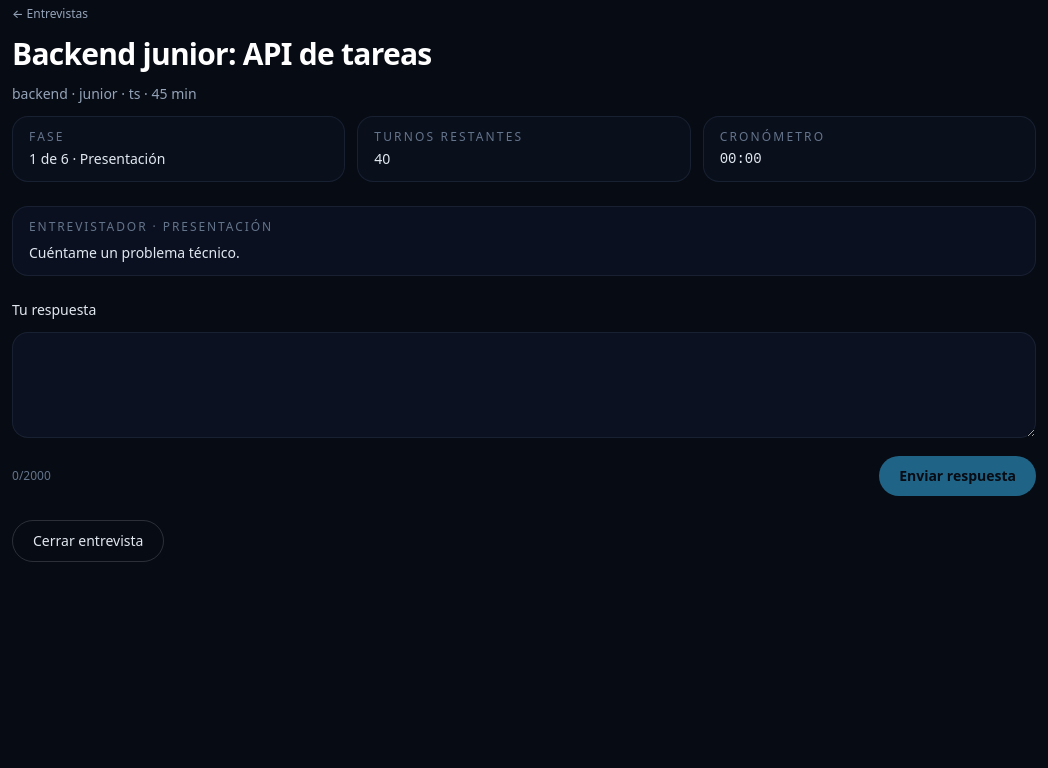
InterviewRoom › envía una respuesta y actualiza fase, turno y conversación
Type "Validaría el caso vacío." into the text box labelled "Tu respuesta" at x=524, y=385, box [12,332,1036,438]
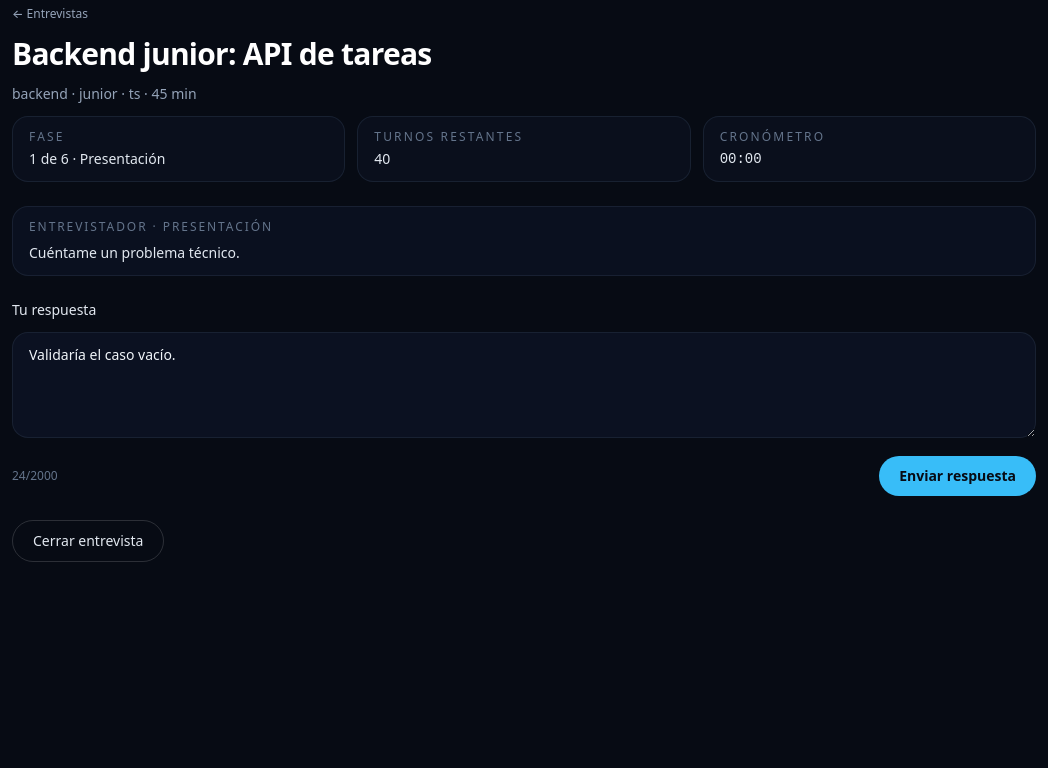
Click the button "Enviar respuesta" at x=958, y=476, box [879,456,1036,496]
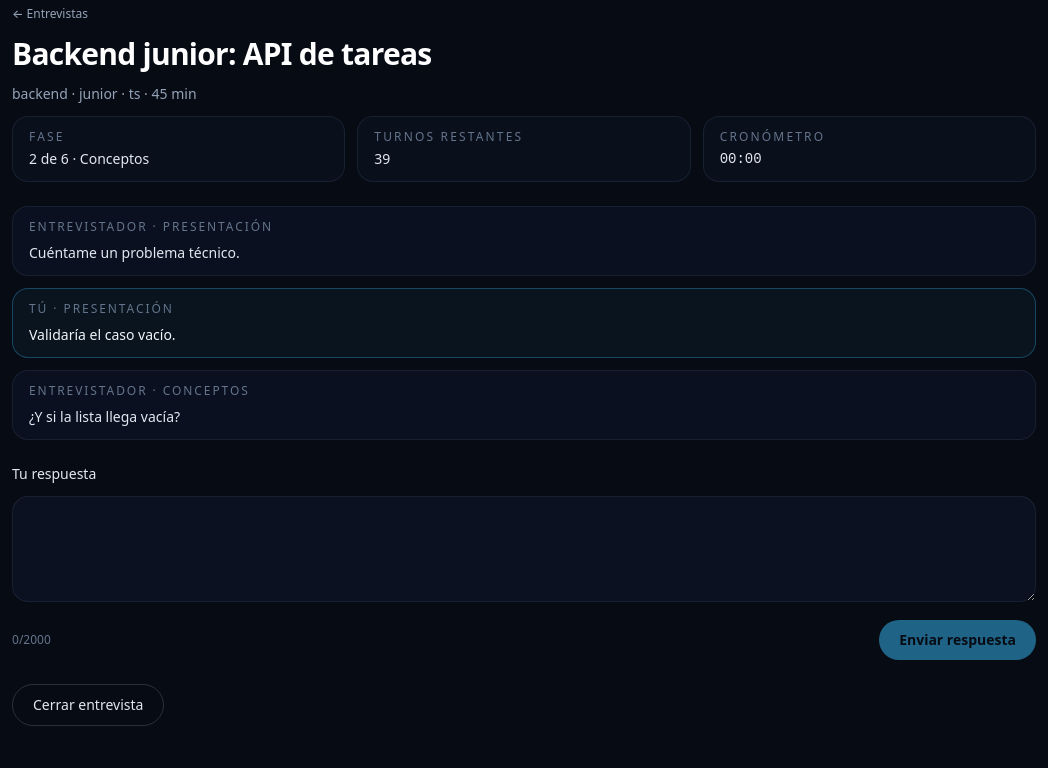
Check: the text "¿Y si la lista llega vacía?" is shown, box [29,407,180,426]
Check: the text "2 de 6 · Conceptos" is shown, box [29,149,149,168]
Check: the text "39" is shown, box [374,149,390,168]
